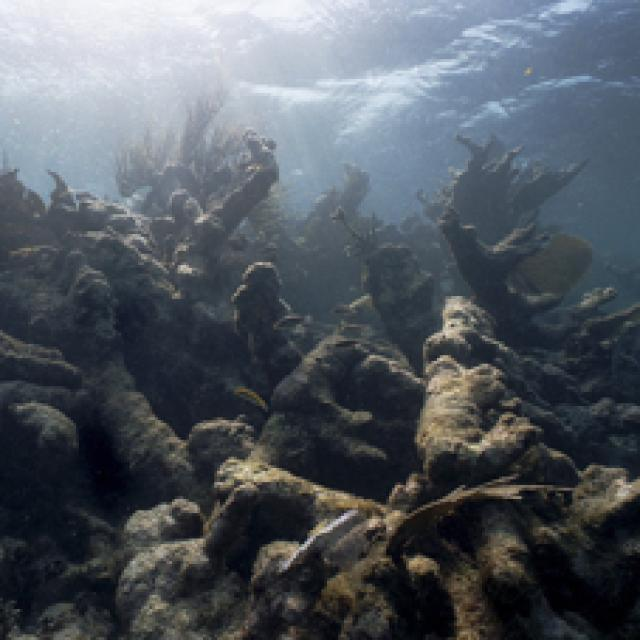Dead Coral: (3, 336, 407, 635), (0, 116, 291, 328), (367, 256, 569, 519)
